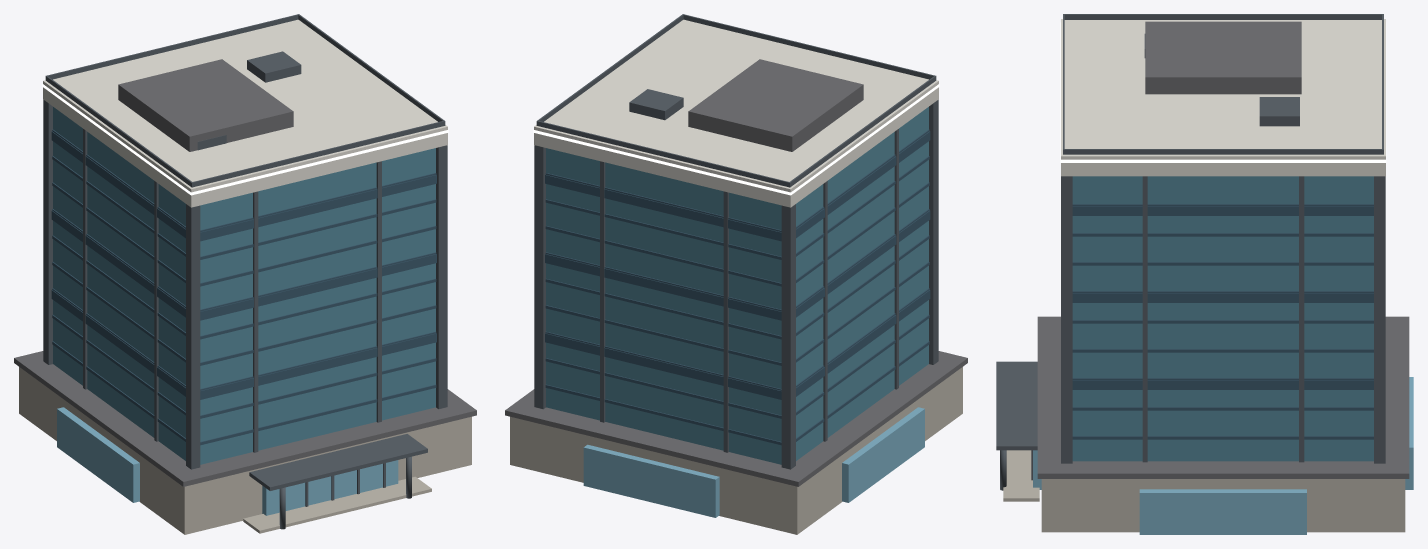
The model's file is office_tower_low.glb.
The picture shows the model from 3 angles, left to right: view 1: azimuth 30°, elevation 25°; view 2: azimuth 150°, elevation 25°; view 3: azimuth 270°, elevation 25°; orthographic projection. The views are drawn at different scales.
Visible parts, largest first — view 1: office_shaft, office_crown, Merged_TowerMetal, Merged_TowerSpandrel, Merged_RoofDark, Merged_TowerStone, Merged_FacadeGlass, office_crown_light0320; view 2: office_shaft, office_crown, Merged_TowerSpandrel, Merged_TowerMetal, Merged_RoofDark, Merged_TowerStone, Merged_FacadeGlass, office_crown_light0320; view 3: office_shaft, office_crown, Merged_RoofDark, Merged_TowerMetal, Merged_TowerSpandrel, Merged_TowerStone, Merged_FacadeGlass, office_crown_light0320.
Part boxes in pixels (x1=…): office_shaft: x1=53, y1=107, x2=435, y2=464; office_crown: x1=43, y1=19, x2=447, y2=207; Merged_TowerMetal: x1=43, y1=14, x2=447, y2=529; Merged_TowerSpandrel: x1=51, y1=129, x2=436, y2=445; Merged_RoofDark: x1=14, y1=59, x2=476, y2=486; Merged_TowerStone: x1=19, y1=367, x2=471, y2=534; Merged_FacadeGlass: x1=57, y1=407, x2=398, y2=515; office_crown_light0320: x1=42, y1=84, x2=448, y2=195; office_shaft: x1=546, y1=107, x2=928, y2=464; office_crown: x1=534, y1=19, x2=938, y2=207; Merged_TowerSpandrel: x1=545, y1=129, x2=930, y2=445; Merged_TowerMetal: x1=534, y1=14, x2=938, y2=469; Merged_RoofDark: x1=505, y1=59, x2=967, y2=486; Merged_TowerStone: x1=510, y1=367, x2=962, y2=534; Merged_FacadeGlass: x1=583, y1=407, x2=924, y2=517; office_crown_light0320: x1=533, y1=84, x2=939, y2=195; office_shaft: x1=1072, y1=176, x2=1373, y2=461; office_crown: x1=1061, y1=19, x2=1385, y2=176; Merged_RoofDark: x1=1037, y1=21, x2=1409, y2=478; Merged_TowerMetal: x1=996, y1=14, x2=1385, y2=490; Merged_TowerSpandrel: x1=1072, y1=204, x2=1373, y2=439; Merged_TowerStone: x1=1003, y1=450, x2=1405, y2=532; Merged_FacadeGlass: x1=1033, y1=377, x2=1413, y2=534; office_crown_light0320: x1=1060, y1=22, x2=1386, y2=162.
Bounding box in the file's own units: 37.7 × 42.05 × 41.35.
